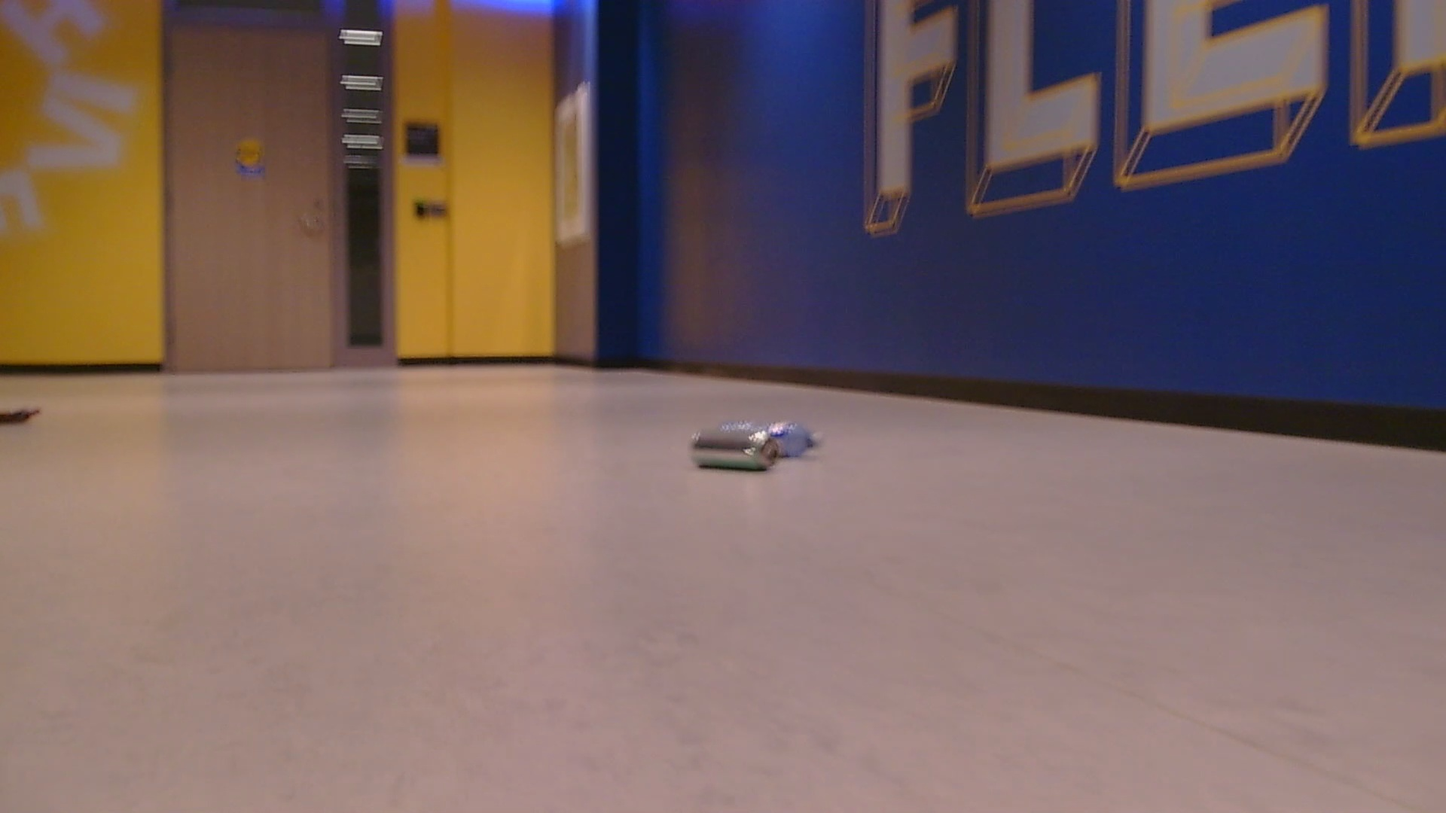can: (689, 419, 822, 472), (0, 402, 47, 437)
